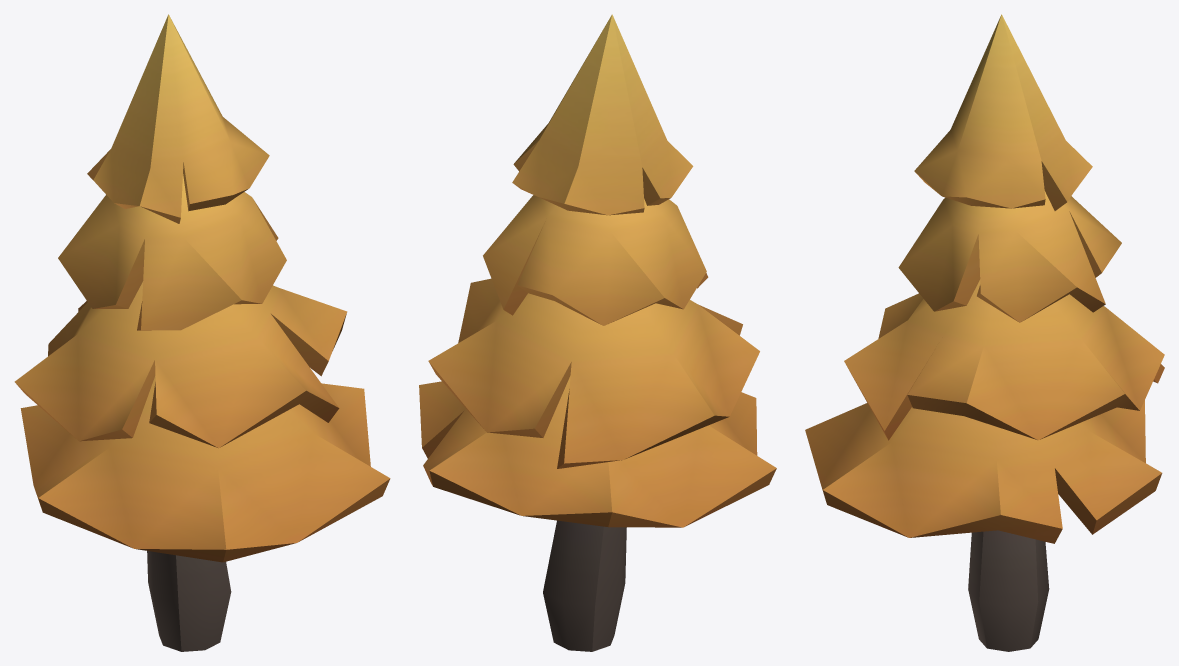
Rendered from tree_pine_yellow_medium.glb.
3 renders of one model, left to right at view 1: azimuth 30°, elevation 25°; view 2: azimuth 150°, elevation 25°; view 3: azimuth 270°, elevation 25°, orthographic. The views are drawn at different scales.
Visible parts, largest first — view 1: tree_pine_yellow_medium; view 2: tree_pine_yellow_medium; view 3: tree_pine_yellow_medium.
Part boxes in pixels (left/top/right/bottom): tree_pine_yellow_medium: left=14, top=14, right=390, bottom=651; tree_pine_yellow_medium: left=419, top=14, right=776, bottom=651; tree_pine_yellow_medium: left=805, top=14, right=1164, bottom=651.
Size of the model in its own units: 3.33 by 5.87 by 3.12.
Materials: 1 (1 with a texture image).
